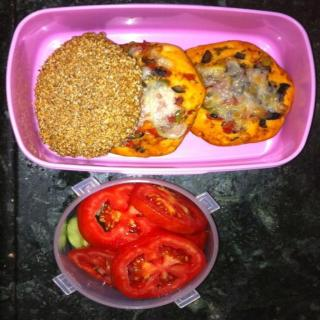tomato: (70, 196, 208, 295)
